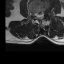CCS_normal: (38, 10, 41, 21)
LFS_normal: (44, 8, 46, 16)
LLS_normal: (41, 9, 44, 20)
RFS_normal: (33, 9, 36, 18)
RLS_normal: (36, 10, 39, 19)
